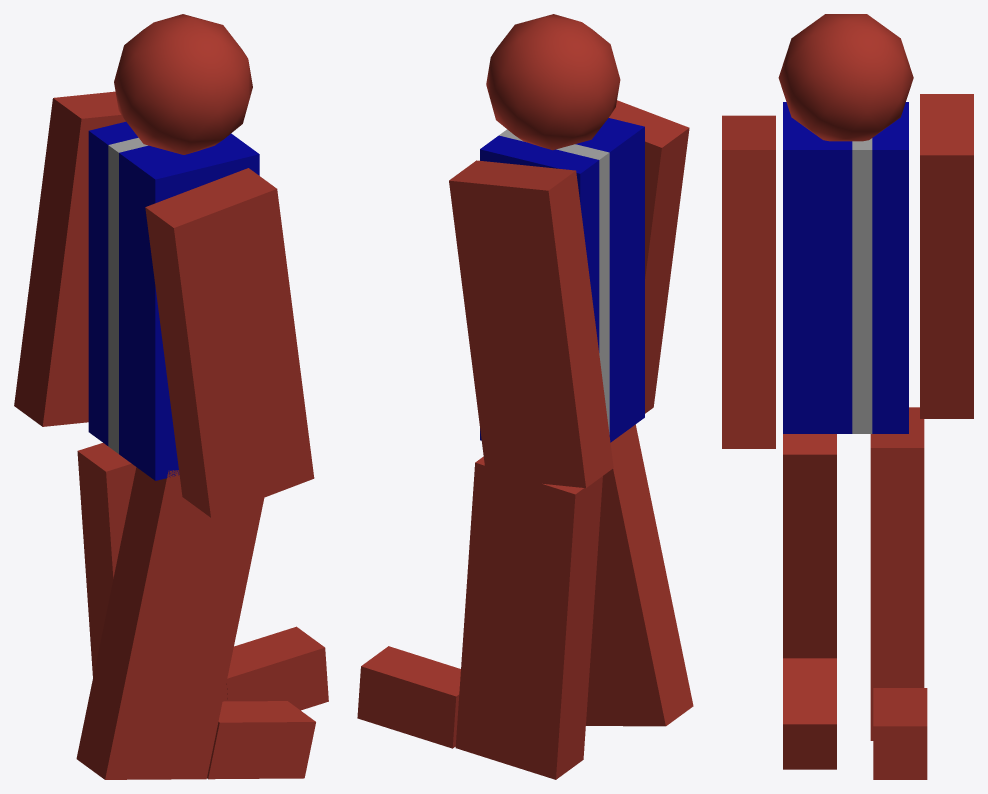
Rendered from player_000072.obj.
The picture shows the model from 3 angles, left to right: view 1: azimuth 30°, elevation 25°; view 2: azimuth 150°, elevation 25°; view 3: azimuth 270°, elevation 25°; orthographic projection. The views are drawn at different scales.
Visible parts, largest first — view 1: Cube.005, Cube.001, Cube, Cube.006, Icosphere, Cube.003, Cube.002, Cube.004; view 2: Cube.006, Cube.002, Cube.001, Cube, Icosphere, Cube.005, Cube.004; view 3: Cube, Cube.005, Cube.006, Cube.002, Icosphere, Cube.001, Cube.003, Cube.004.
Boxes of the visible parts, left/top/right/bottom form: Cube.005: left=145, top=168, right=314, bottom=517; Cube.001: left=76, top=467, right=264, bottom=779; Cube: left=88, top=121, right=259, bottom=480; Cube.006: left=14, top=91, right=125, bottom=426; Icosphere: left=114, top=14, right=252, bottom=154; Cube.003: left=207, top=701, right=315, bottom=779; Cube.002: left=77, top=443, right=227, bottom=701; Cube.004: left=226, top=626, right=328, bottom=710; Cube.006: left=449, top=160, right=613, bottom=487; Cube.002: left=455, top=456, right=602, bottom=779; Cube.001: left=586, top=424, right=693, bottom=726; Cube: left=480, top=118, right=644, bottom=442; Icosphere: left=486, top=14, right=620, bottom=150; Cube.005: left=609, top=100, right=689, bottom=413; Cube.004: left=357, top=646, right=460, bottom=748; Cube: left=783, top=102, right=908, bottom=433; Cube.005: left=722, top=115, right=775, bottom=448; Cube.006: left=920, top=94, right=973, bottom=418; Cube.002: left=870, top=407, right=924, bottom=740; Icosphere: left=778, top=14, right=913, bottom=141; Cube.001: left=783, top=434, right=836, bottom=658; Cube.003: left=783, top=658, right=836, bottom=769; Cube.004: left=873, top=688, right=927, bottom=779.
Size of the model in its own units: 1.07 by 2.85 by 0.9137.
